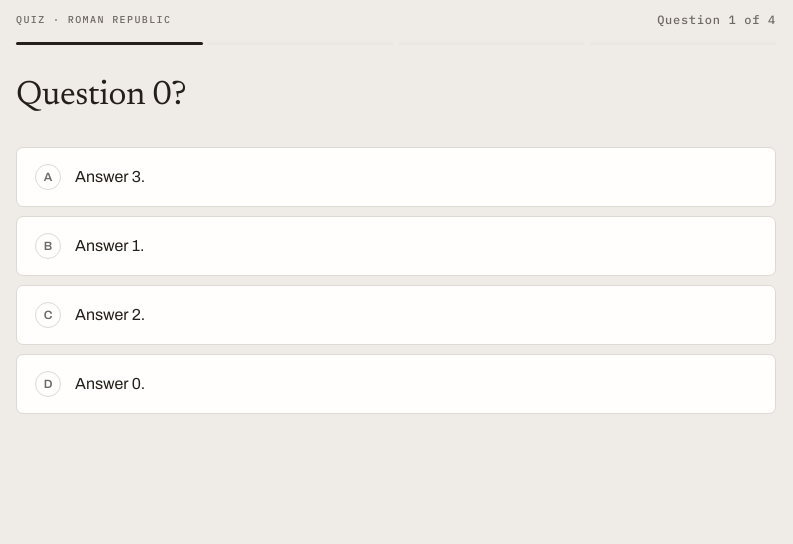
Test: answering › moves on when asked
Click the button "D Answer 0." at (110,383), box [16,354,776,414]
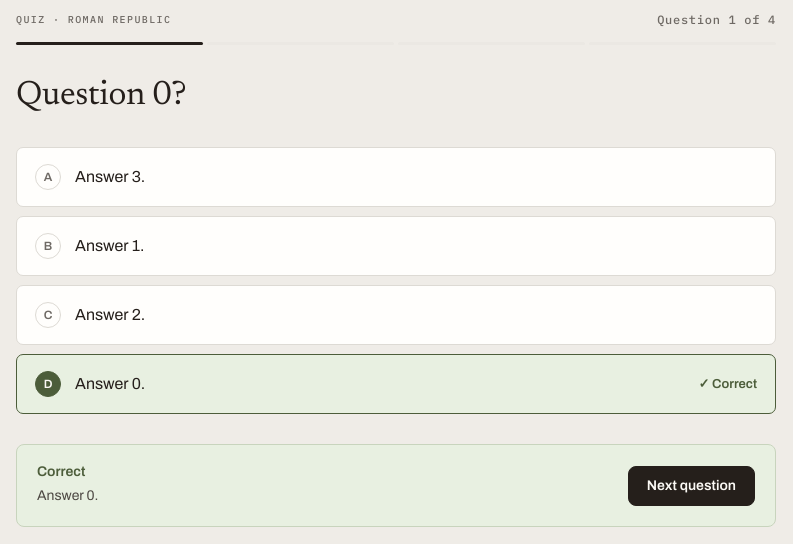
Click the button "Next question" at (691,486), box [628,466,755,506]
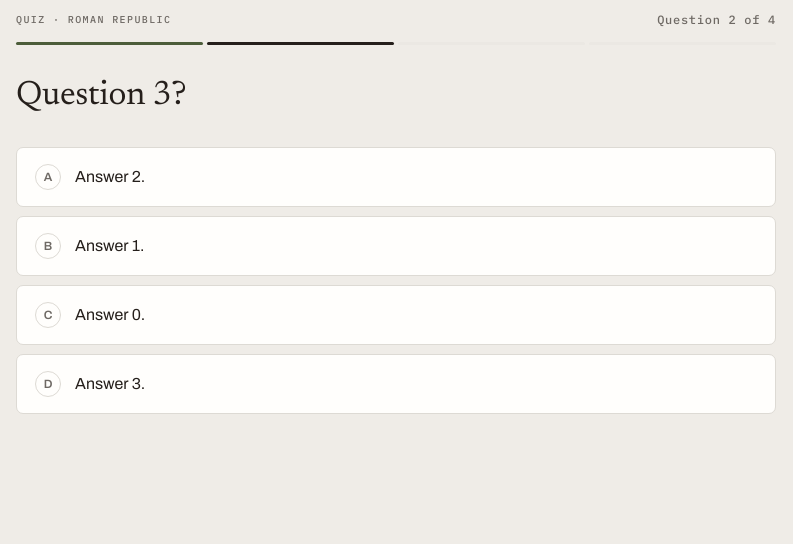
Expected: the text "Question 2 of 4" is shown, [657,12,776,28]
